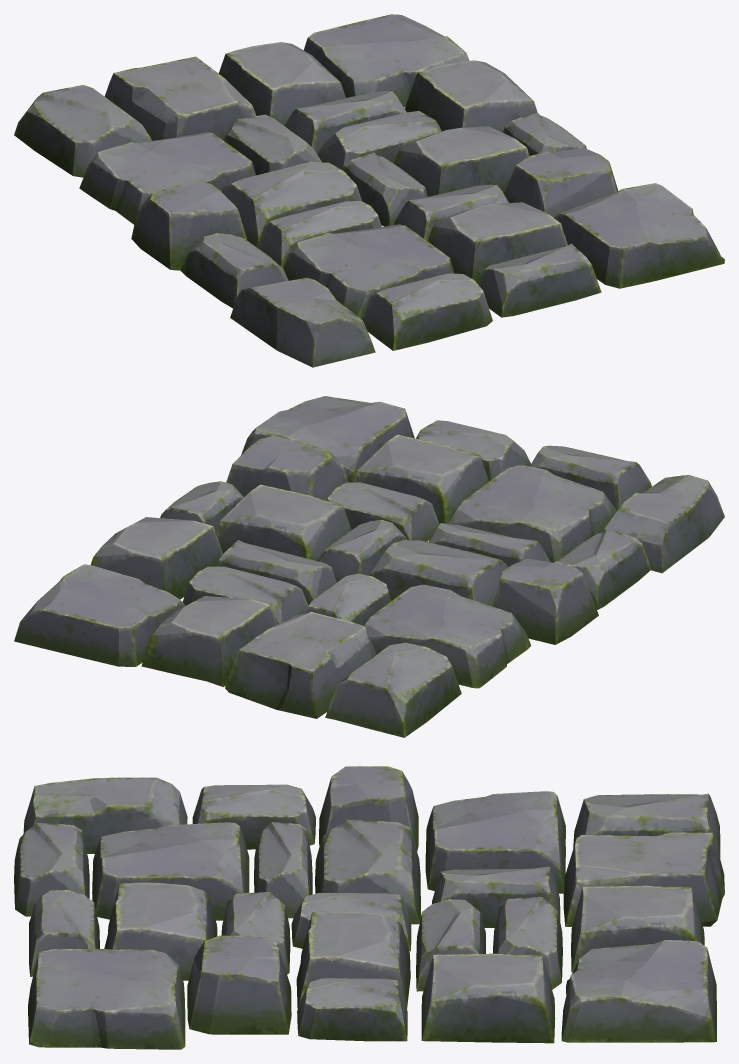
The model's file is RockPath_Square_Thin.glb.
3 views of the same model, one above another, from view 1: azimuth 30°, elevation 25°; view 2: azimuth 150°, elevation 25°; view 3: azimuth 270°, elevation 25° (orthographic). The views are drawn at different scales.
Visible parts, largest first — view 1: RockPath_Square_Thin; view 2: RockPath_Square_Thin; view 3: RockPath_Square_Thin.
Boxes of the visible parts, x1,y1,x2,y2 form: RockPath_Square_Thin: (14,14,724,367); RockPath_Square_Thin: (14,396,724,737); RockPath_Square_Thin: (14,766,724,1049).
Size of the model in its own units: 1.56 by 0.1763 by 1.99.
1 material, 1 textured.
